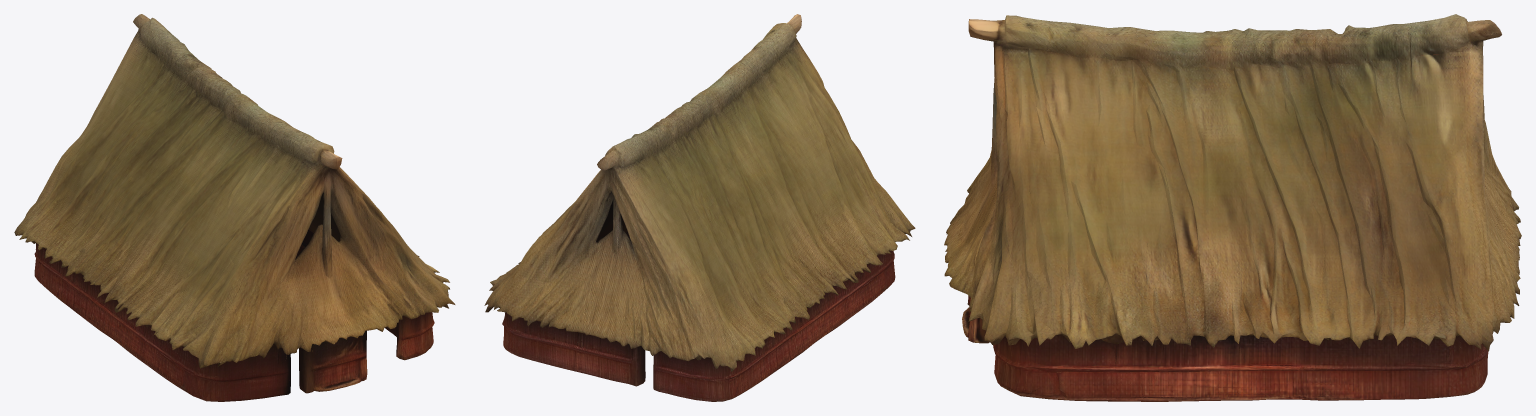
Rendered from choza.glb.
The picture shows the model from 3 angles, left to right: view 1: azimuth 30°, elevation 25°; view 2: azimuth 150°, elevation 25°; view 3: azimuth 270°, elevation 25°; orthographic projection. The views are drawn at different scales.
Parts seen in each view (by area): view 1: Mesh; view 2: Mesh; view 3: Mesh.
Boxes of the visible parts, x1,y1,x2,y2 form: Mesh: [14, 14, 455, 401]; Mesh: [484, 14, 915, 401]; Mesh: [944, 14, 1521, 401].
Bounding box in the file's own units: 0.4721 × 0.3677 × 0.6241.
1 material, 1 textured.
